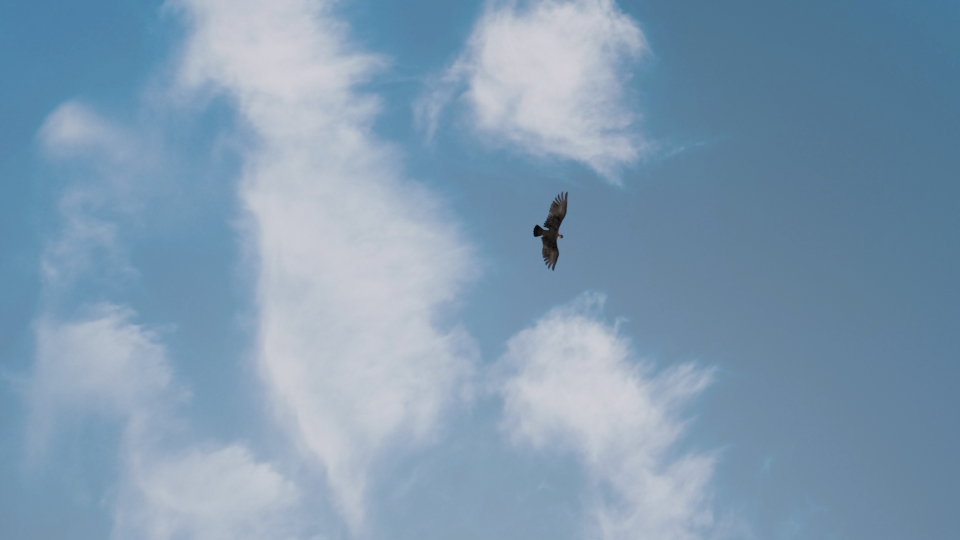bird: (531, 194, 573, 270)
